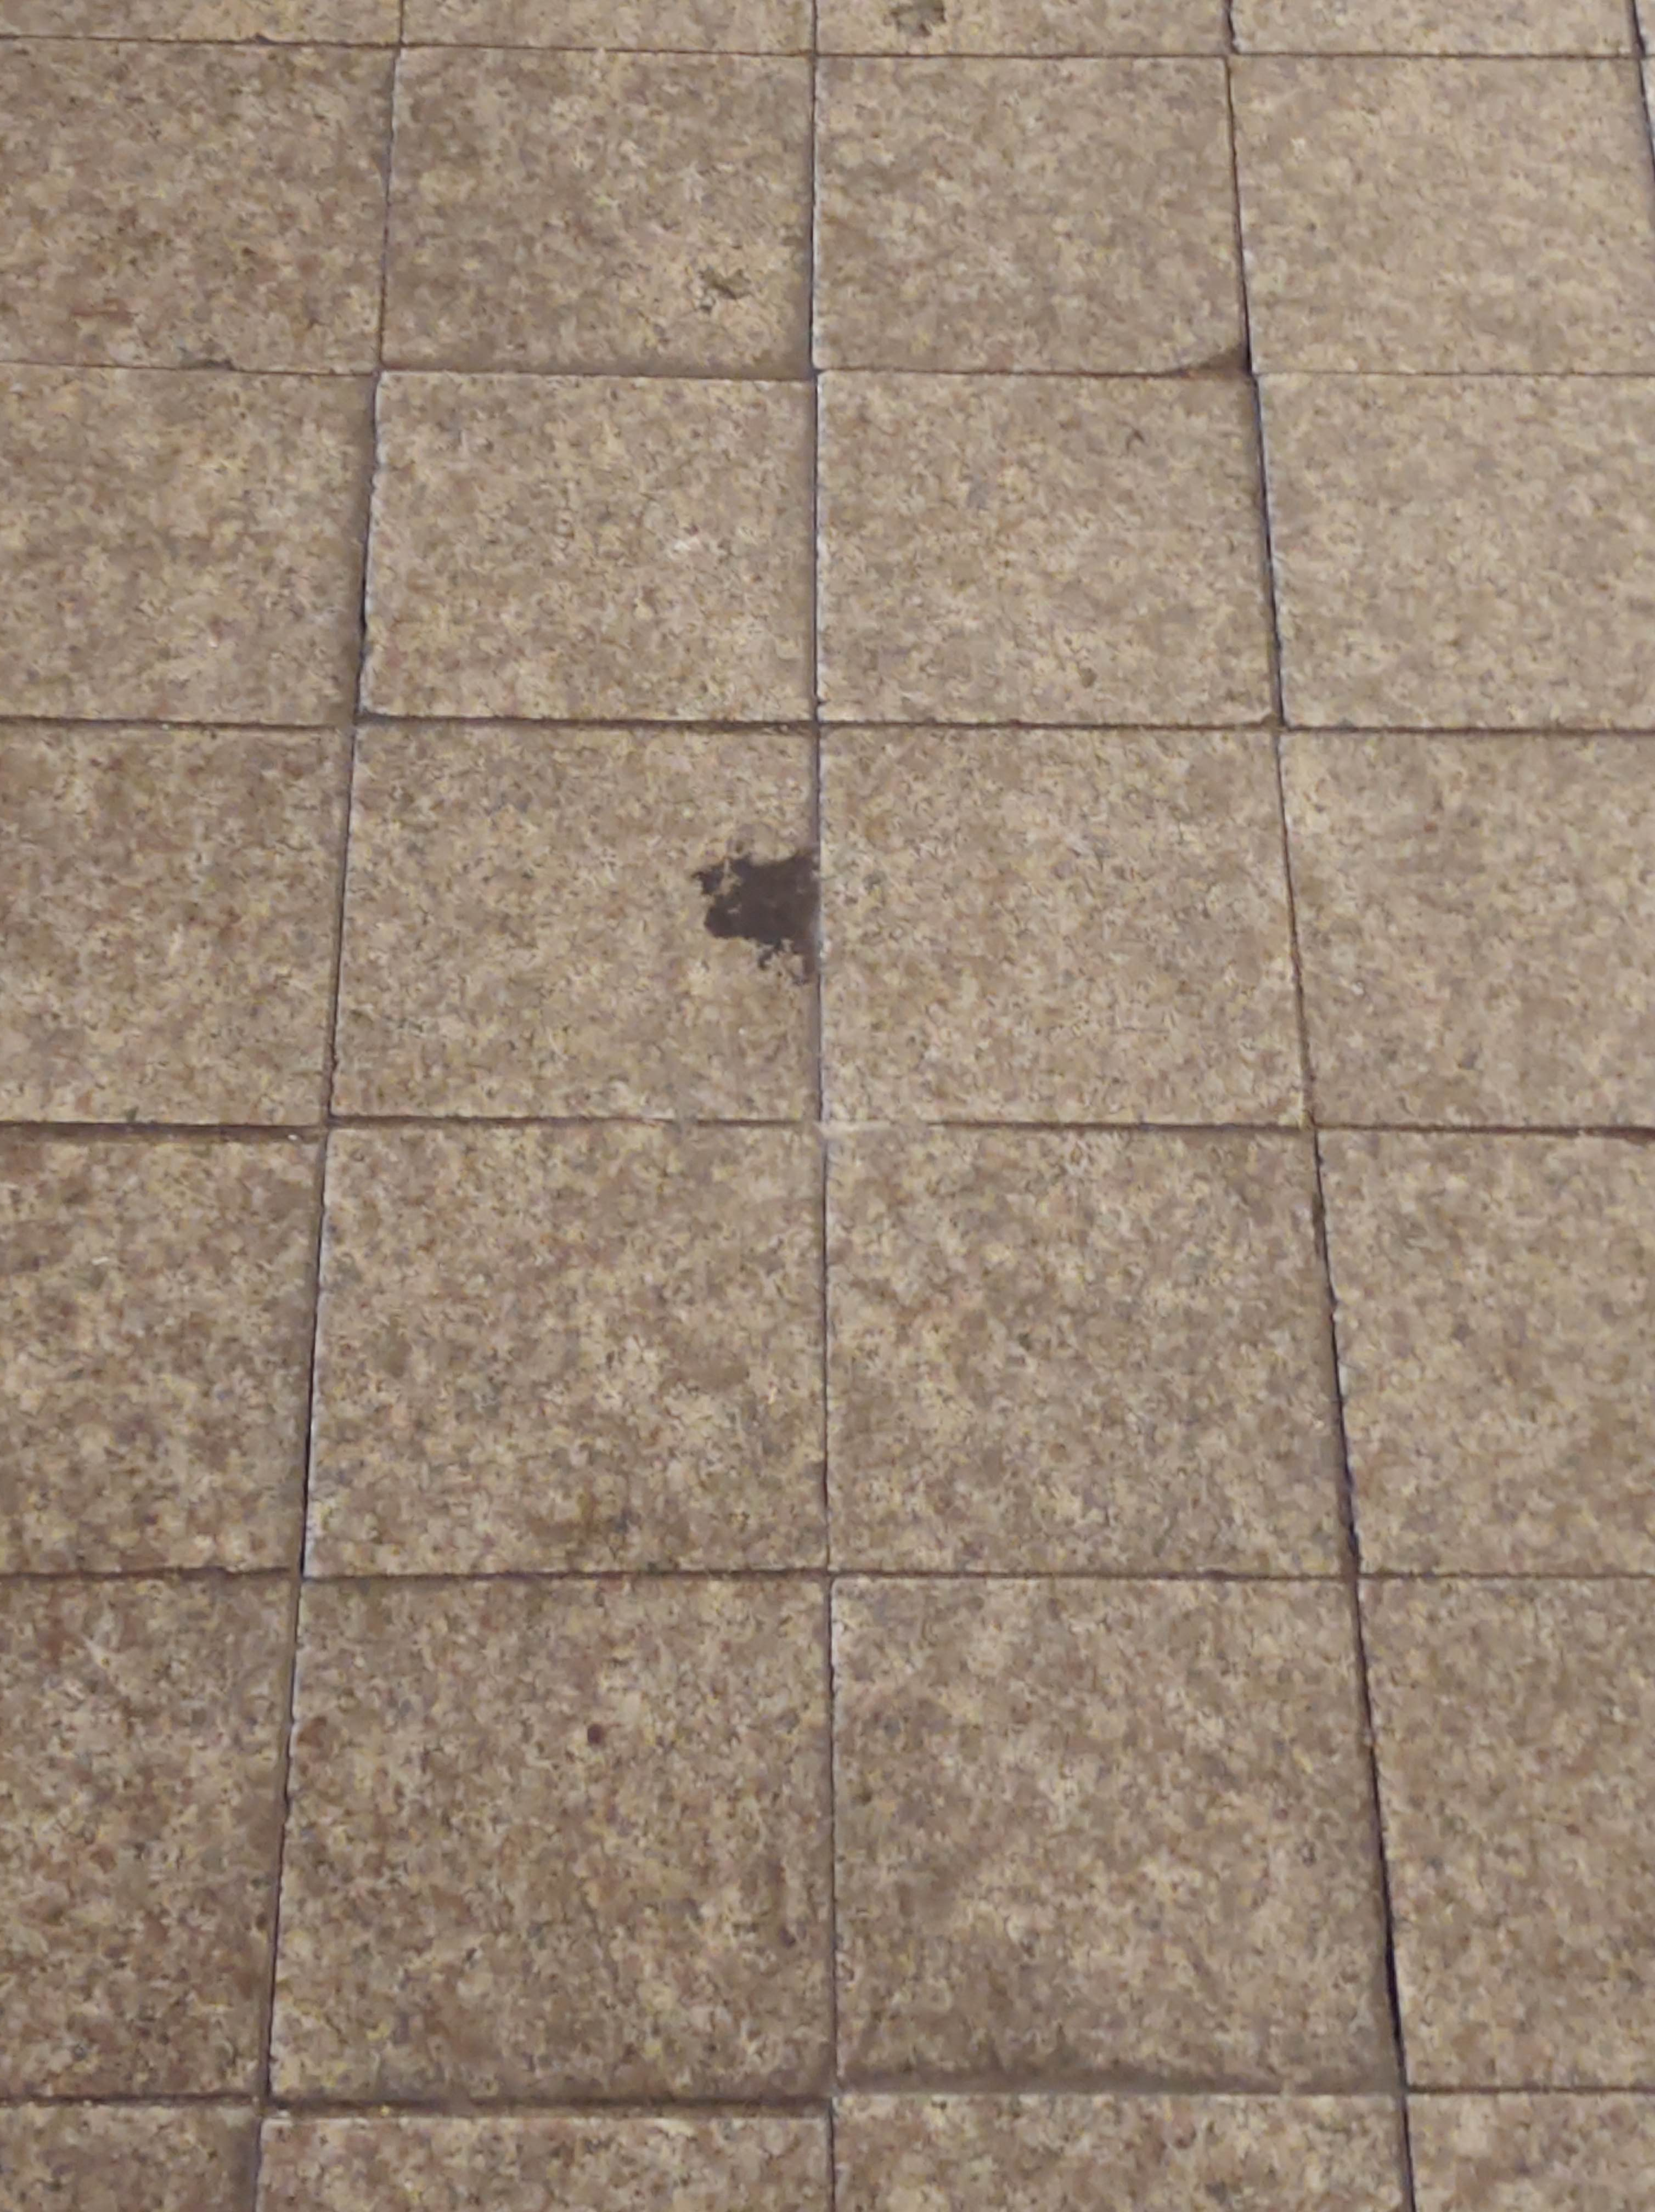grey spot: (692, 848, 819, 982)
